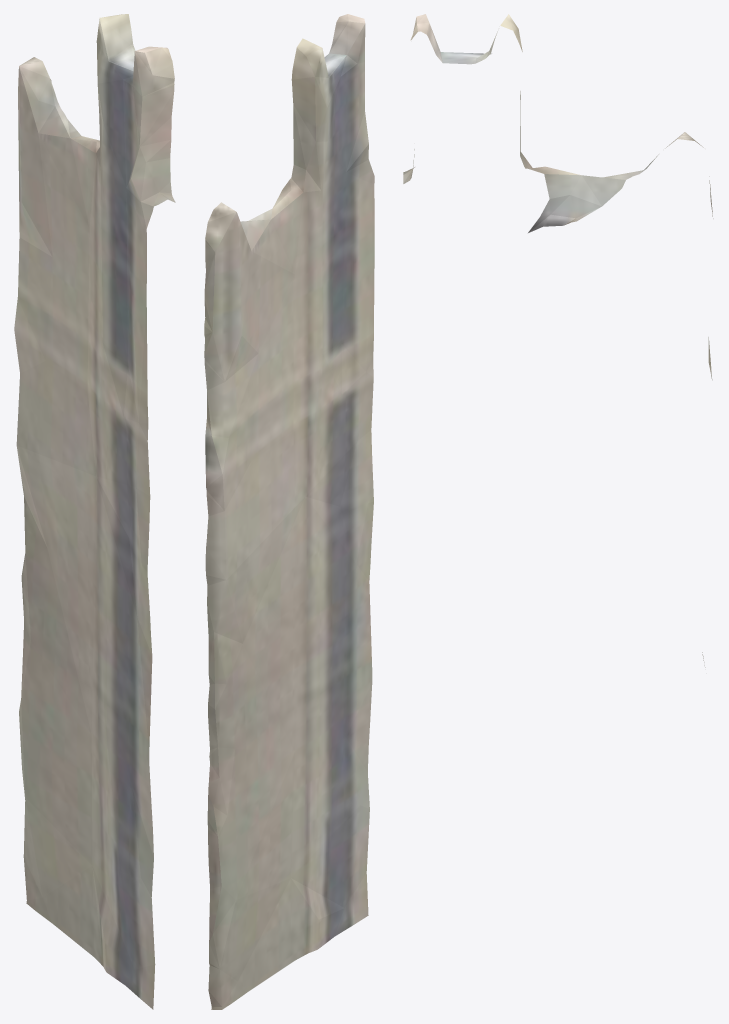
File: Tile_+003_+000_L21_0003320.glb
3 views of the same model, side by side, from view 1: azimuth 30°, elevation 25°; view 2: azimuth 150°, elevation 25°; view 3: azimuth 270°, elevation 25° (orthographic). The views are drawn at different scales.
Parts seen in each view (by area): view 1: rtc; view 2: rtc; view 3: rtc.
Part boxes in pixels (x1,y1,x2,y2): rtc: (14,14,175,1009); rtc: (204,14,374,1009); rtc: (403,14,713,667).
Size of the model in its own units: 0.5271 by 14.23 by 4.08.
1 material, 1 textured.
